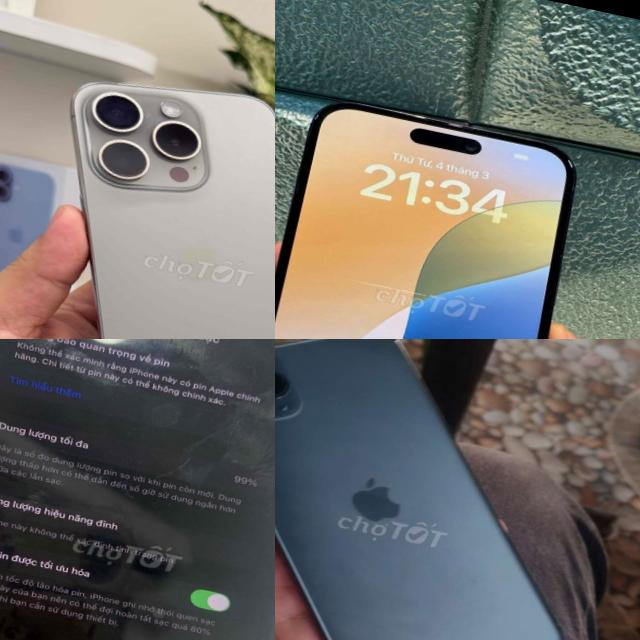scratch: (118, 401, 226, 519), (352, 96, 562, 153), (379, 339, 430, 382)
